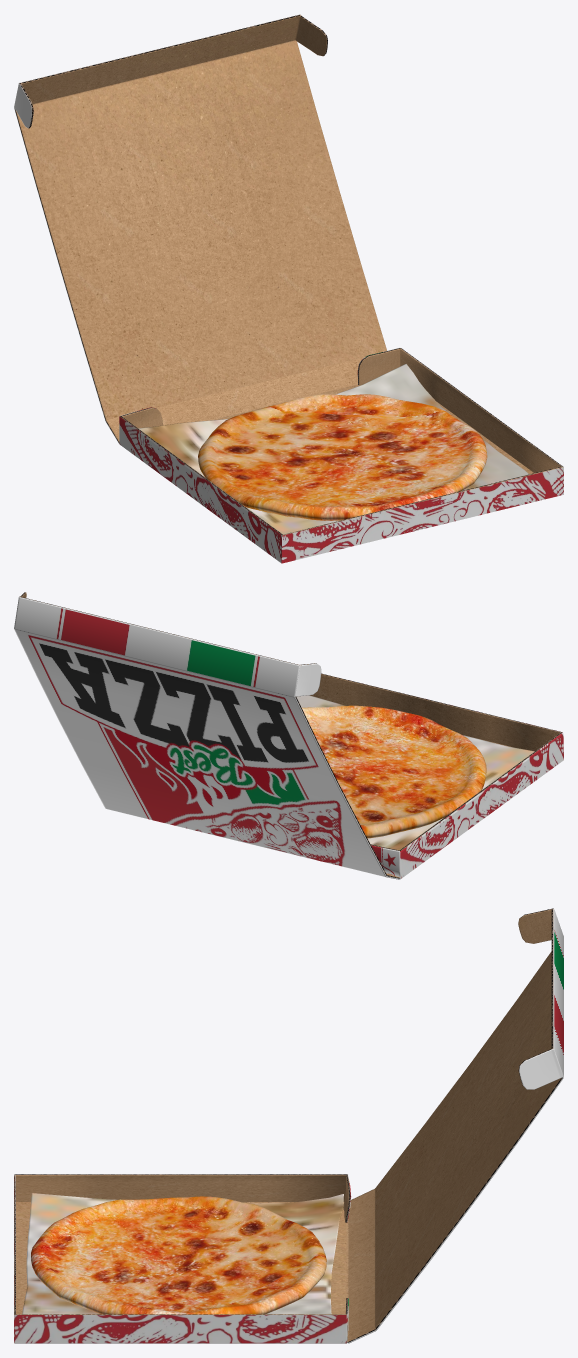
The model's file is pizza.glb.
3 renders of one model, top to bottom at view 1: azimuth 30°, elevation 25°; view 2: azimuth 150°, elevation 25°; view 3: azimuth 270°, elevation 25°, orthographic. The views are drawn at different scales.
Parts seen in each view (by area): view 1: BoxMain, Pizza, BoxCover, Paper; view 2: BoxCover, Pizza, BoxMain, Paper; view 3: BoxMain, Pizza, BoxCover, Paper.
Part boxes in pixels (bbox=[...]): BoxMain: bbox=[14, 14, 563, 535]; Pizza: bbox=[198, 394, 487, 520]; BoxCover: bbox=[14, 14, 563, 563]; Paper: bbox=[138, 364, 529, 534]; BoxCover: bbox=[14, 597, 563, 879]; Pizza: bbox=[302, 705, 486, 838]; BoxMain: bbox=[19, 592, 562, 878]; Paper: bbox=[296, 695, 534, 850]; BoxMain: bbox=[14, 908, 562, 1342]; Pizza: bbox=[31, 1196, 326, 1314]; BoxCover: bbox=[14, 908, 563, 1343]; Paper: bbox=[22, 1193, 343, 1314].
Bounding box in the file's own units: 18.6 × 17.21 × 29.11.
4 materials, 4 textured.
